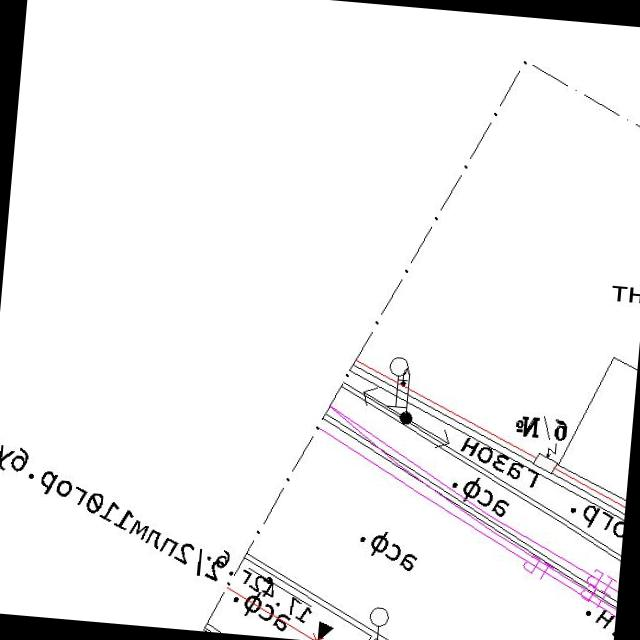asphalt: (228, 588, 294, 634), (448, 473, 512, 519), (356, 528, 420, 574)
mark: (315, 619, 334, 640)
sing: (384, 354, 411, 410)
